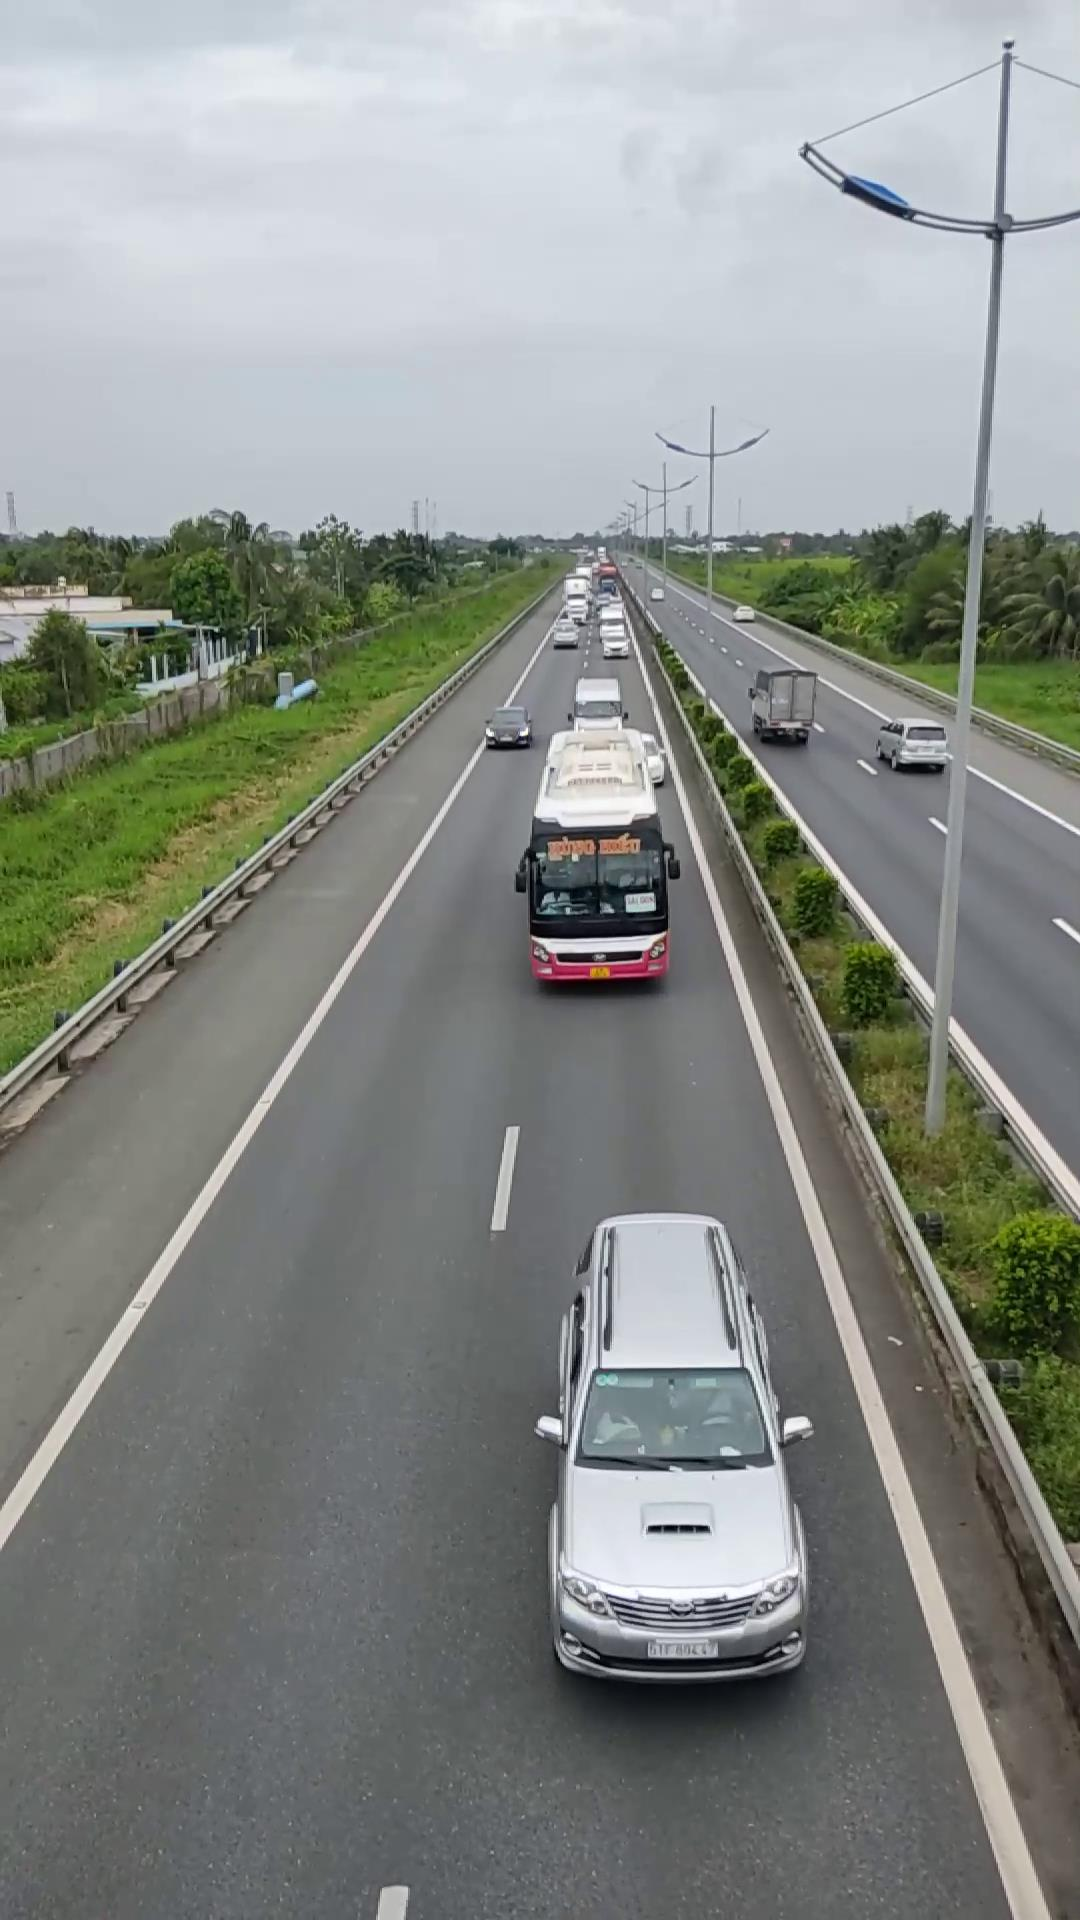bus: (516, 723, 676, 986)
car: (542, 1208, 814, 1679)
truck: (746, 662, 818, 742)
